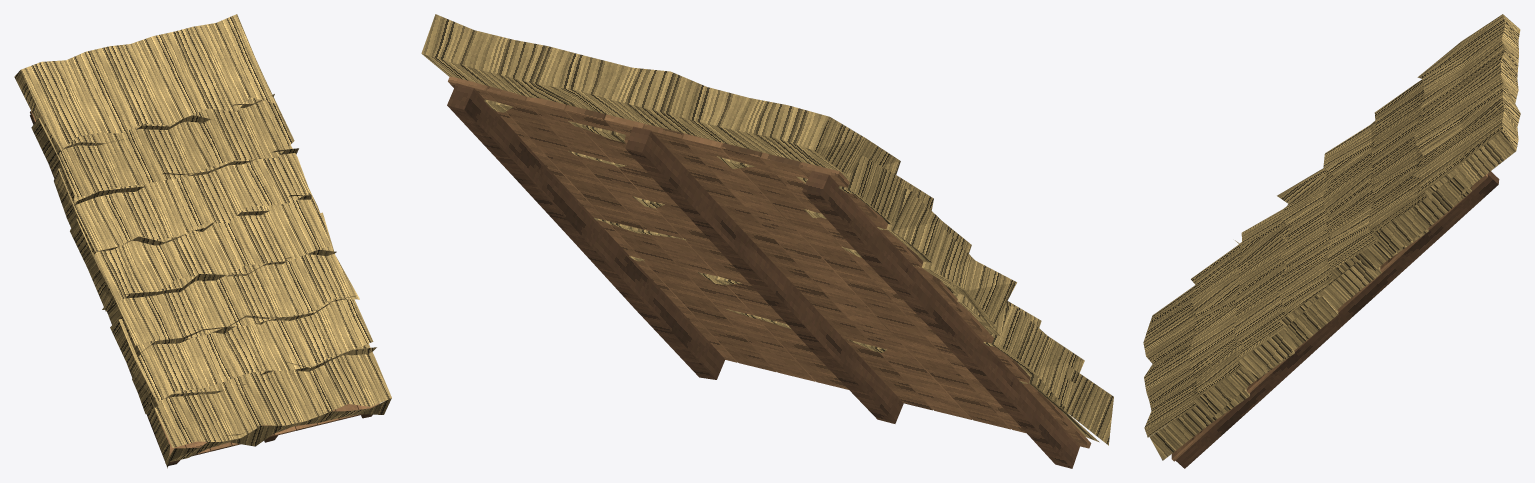
Rendered from telhado_palha.glb.
The picture shows the model from 3 angles, left to right: view 1: azimuth 30°, elevation 25°; view 2: azimuth 150°, elevation 25°; view 3: azimuth 270°, elevation 25°; orthographic projection. The views are drawn at different scales.
Parts seen in each view (by area): view 1: telhado_palha_palha, telhado_palha_madeira; view 2: telhado_palha_madeira, telhado_palha_palha, telhado_palha_madeira_escura; view 3: telhado_palha_palha, telhado_palha_madeira_escura, telhado_palha_madeira.
Part boxes in pixels (bbox=[...]): telhado_palha_palha: bbox=[14, 14, 391, 468]; telhado_palha_madeira: bbox=[30, 111, 379, 455]; telhado_palha_madeira: bbox=[448, 76, 1091, 448]; telhado_palha_palha: bbox=[421, 14, 1113, 445]; telhado_palha_madeira_escura: bbox=[447, 83, 1079, 468]; telhado_palha_palha: bbox=[1143, 14, 1520, 460]; telhado_palha_madeira_escura: bbox=[1175, 171, 1499, 468]; telhado_palha_madeira: bbox=[1171, 173, 1487, 461].
Size of the model in its own units: 3.24 by 4.07 by 4.08.
3 materials, 3 textured.
